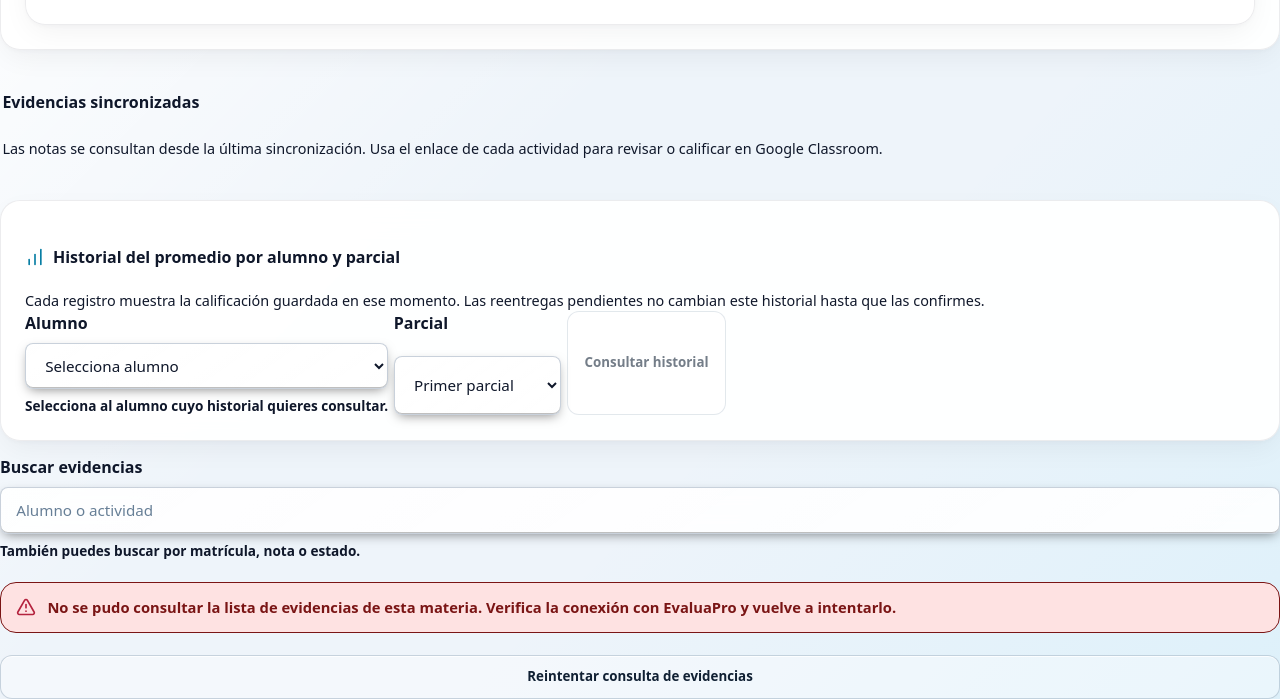
Test: ClassroomEnCalificaciones › distingue el fallo de evidencias del vacío y ofrece reintentar solo el GET
(page scrolled)
Expected: the message shows "No se pudo consultar la lista de evidencias de esta materia. Verifica la conexión con EvaluaPro y vuelve a intentarlo.", [47, 597, 896, 617]
Expected: the text "No hay calificaciones Classroom sincronizadas para esta materia." is not shown
Click the button "Reintentar consulta de evidencias" at (640, 677), box [0, 655, 1279, 698]
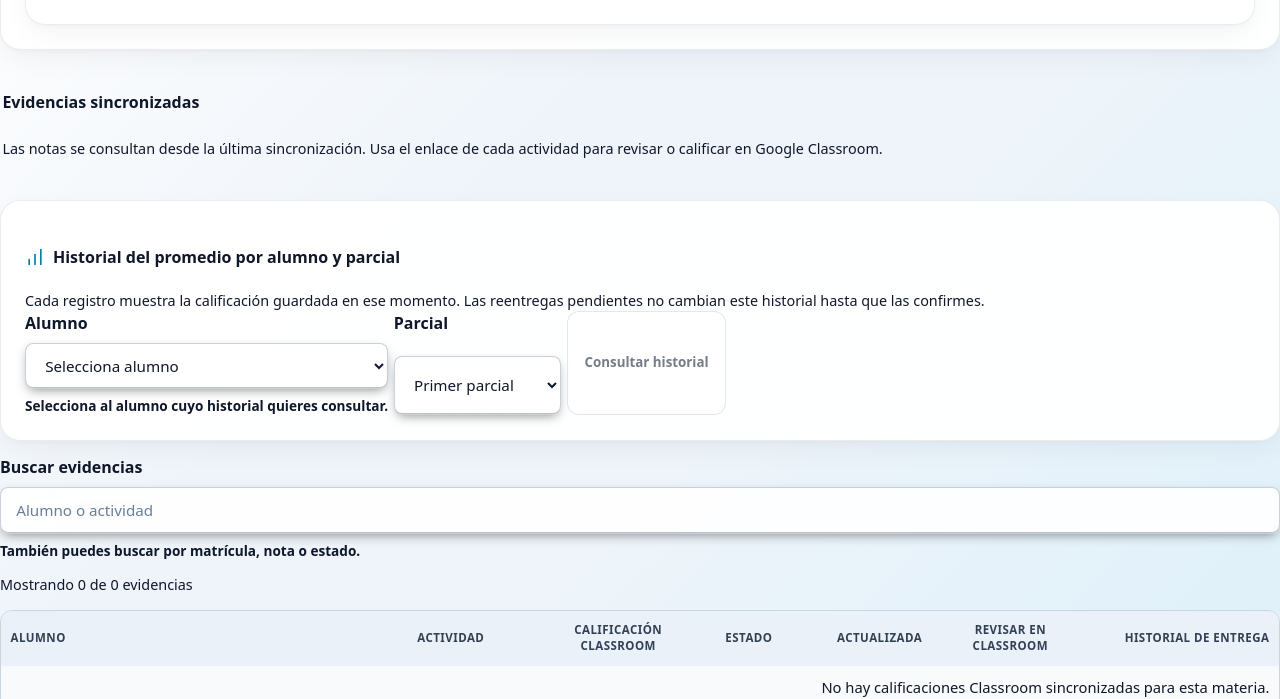
Expected: the text "Mostrando 0 de 0 evidencias" is shown, [0, 575, 193, 594]
